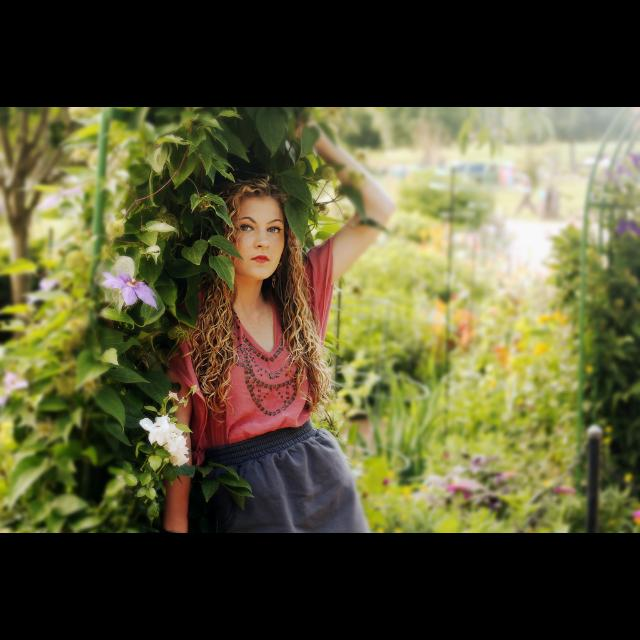Flower: (99, 268, 159, 314), (139, 410, 185, 468)
